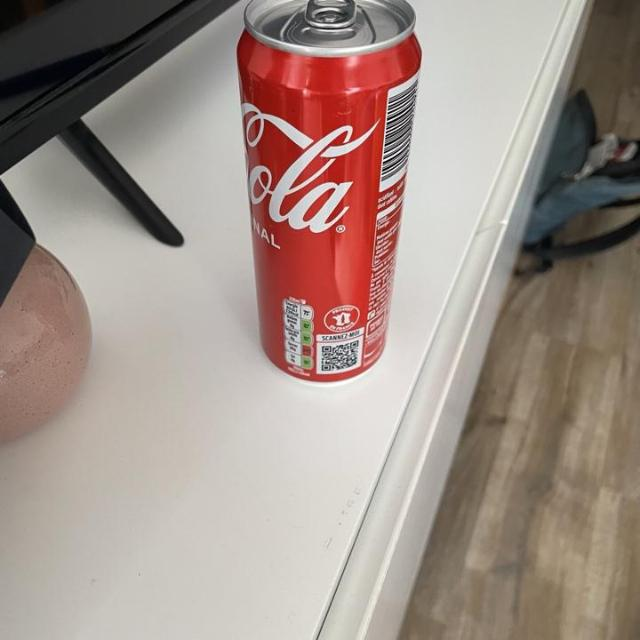can: (235, 0, 421, 384)
